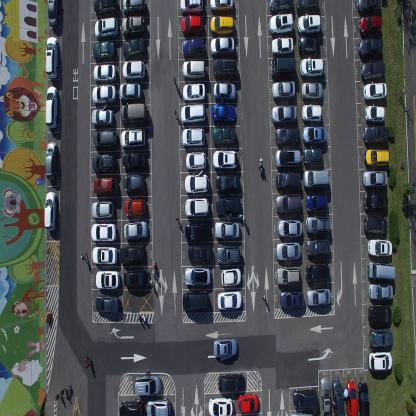car: (120, 102, 148, 126), (182, 288, 208, 313), (274, 147, 302, 170), (275, 264, 301, 288), (270, 55, 296, 79), (268, 11, 294, 35), (180, 102, 206, 126), (366, 260, 396, 280), (216, 289, 242, 312), (94, 15, 118, 39), (119, 243, 144, 266), (43, 190, 57, 231), (278, 290, 304, 312), (305, 287, 331, 309), (305, 214, 331, 236), (275, 192, 301, 214), (360, 60, 386, 82), (292, 387, 318, 409), (134, 374, 160, 396), (45, 35, 58, 79), (45, 85, 58, 129), (214, 195, 241, 216), (302, 168, 329, 189), (363, 147, 390, 168), (218, 371, 245, 392), (297, 12, 321, 35), (121, 14, 145, 37), (214, 172, 239, 194), (184, 196, 209, 218), (275, 125, 300, 147), (271, 79, 296, 101), (211, 102, 236, 124), (92, 152, 117, 174), (120, 127, 145, 149), (92, 83, 117, 105), (92, 61, 117, 83), (211, 149, 237, 170), (215, 245, 241, 266), (123, 267, 149, 288), (275, 170, 301, 191), (184, 221, 211, 241), (184, 266, 211, 286), (184, 172, 208, 194), (358, 14, 382, 36), (181, 126, 205, 148), (182, 58, 206, 80), (213, 58, 237, 80), (210, 36, 234, 58), (180, 14, 204, 36), (299, 57, 324, 78), (209, 15, 234, 36), (92, 128, 117, 149), (214, 220, 240, 240), (91, 222, 117, 242), (94, 270, 120, 290), (304, 264, 330, 284), (270, 104, 296, 124), (358, 38, 384, 58), (363, 125, 389, 145), (212, 338, 238, 358), (91, 246, 118, 265), (124, 196, 147, 218), (305, 192, 328, 214), (122, 37, 144, 60), (93, 40, 116, 62), (91, 200, 115, 221), (368, 305, 392, 326), (181, 37, 205, 58), (187, 243, 212, 263), (123, 220, 148, 240), (275, 242, 300, 262), (367, 352, 392, 372), (302, 125, 327, 145), (362, 82, 387, 102), (362, 169, 387, 189), (363, 192, 388, 212), (367, 238, 392, 258), (276, 218, 302, 237), (207, 396, 233, 415), (94, 175, 117, 196), (121, 60, 144, 81), (368, 329, 392, 349), (212, 126, 236, 146), (213, 80, 237, 100), (182, 82, 206, 102), (122, 152, 146, 172), (45, 140, 57, 180), (94, 295, 119, 314), (305, 239, 331, 257), (298, 35, 320, 56), (364, 103, 385, 125), (238, 392, 260, 413), (271, 35, 294, 55), (364, 215, 387, 235), (118, 82, 142, 101), (344, 380, 357, 415), (368, 283, 393, 301), (146, 397, 171, 415), (119, 398, 144, 416), (185, 150, 206, 171), (124, 173, 145, 194), (301, 102, 323, 122), (301, 80, 323, 100), (90, 107, 113, 126), (221, 267, 242, 287), (319, 378, 330, 416), (355, 0, 382, 15), (302, 146, 323, 165), (332, 380, 343, 416), (47, 0, 60, 29), (121, 0, 146, 15), (357, 381, 368, 415), (178, 0, 204, 14), (209, 0, 234, 14), (94, 0, 117, 15), (295, 0, 319, 14), (268, 0, 294, 12), (289, 411, 314, 415)
